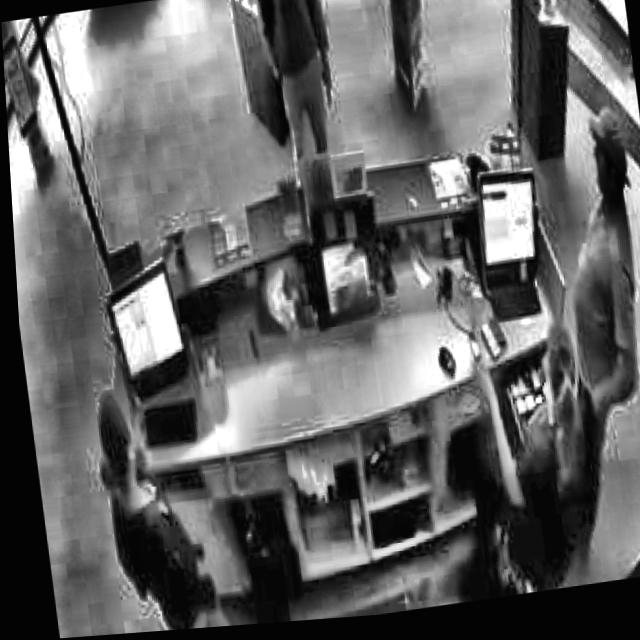robbery: (249, 0, 347, 187)
